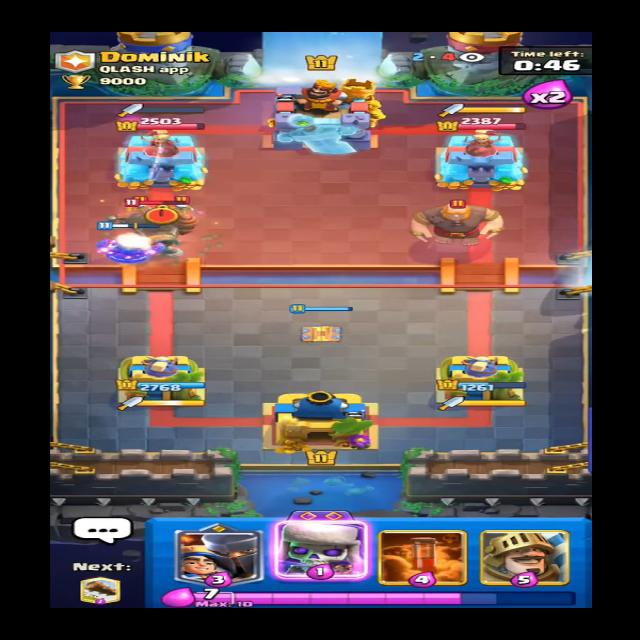giant: (403, 192, 506, 245)
goblin-machine: (105, 198, 202, 257)
skeleton: (168, 197, 193, 219)
